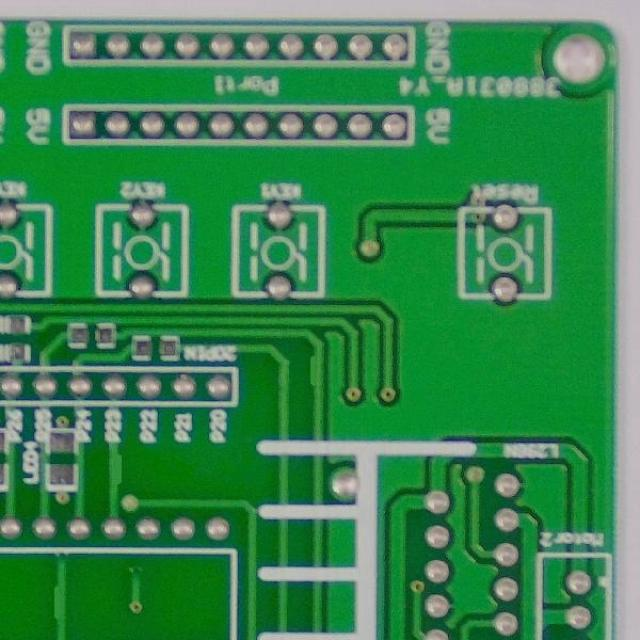spur: (49, 578, 70, 622), (108, 451, 126, 489), (307, 351, 323, 388)
